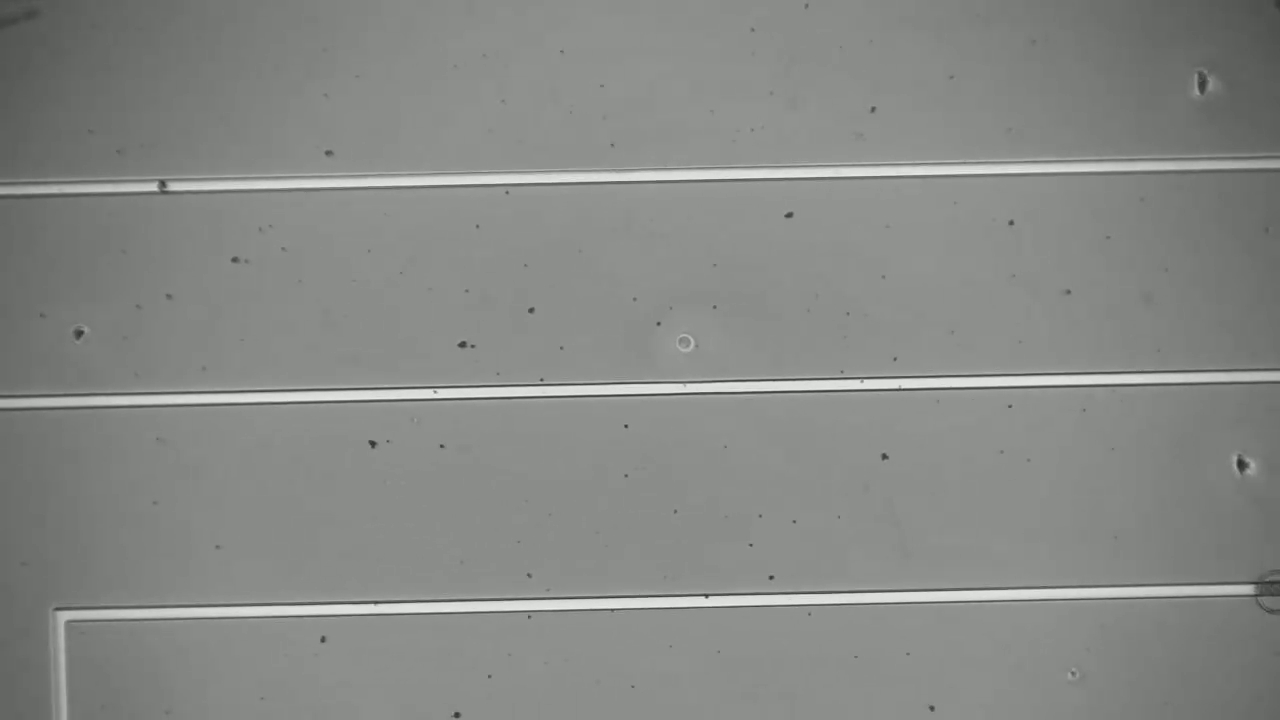stains_enbedded: (149, 171, 181, 203)
